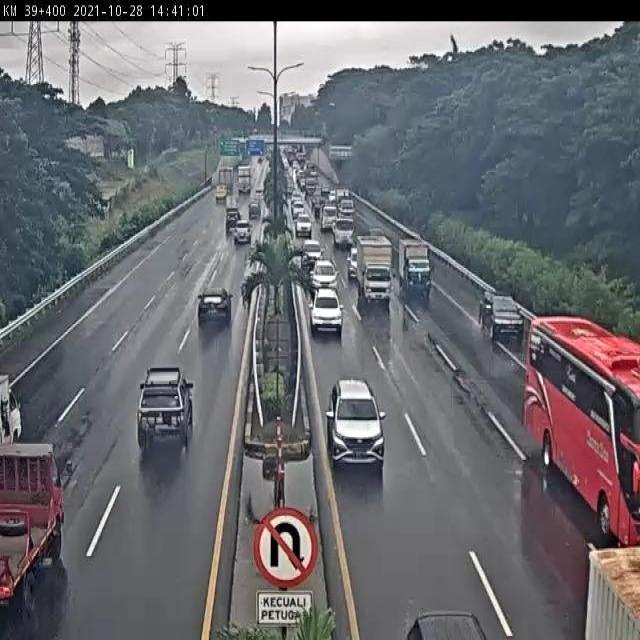ARABA: (325, 379, 387, 472), (135, 365, 195, 451), (478, 288, 525, 341), (309, 291, 345, 336), (196, 284, 234, 325), (309, 258, 341, 294)
KAMYONET: (357, 235, 392, 304), (397, 238, 433, 298)
OTOBUS: (525, 319, 640, 556)
